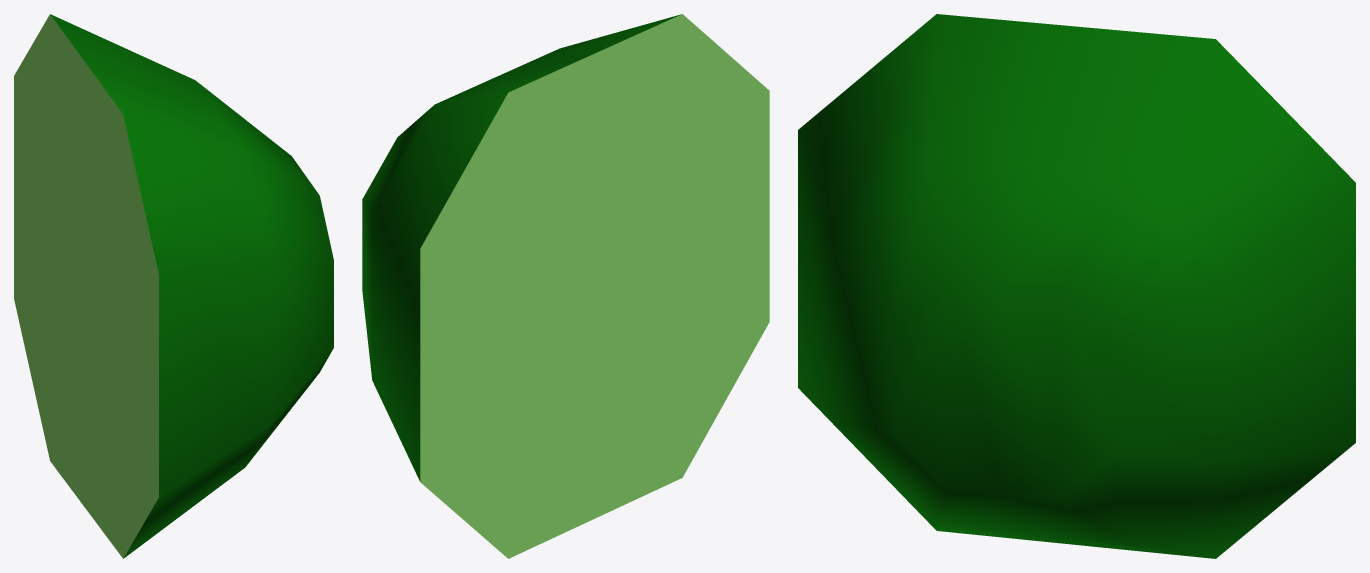
File: mesh_Cucumber_Stage13.fbx
3 views of the same model, side by side, from view 1: azimuth 30°, elevation 25°; view 2: azimuth 150°, elevation 25°; view 3: azimuth 270°, elevation 25° (orthographic). The views are drawn at different scales.
Parts seen in each view (by area): view 1: mesh_Cucumber_Stage13; view 2: mesh_Cucumber_Stage13; view 3: mesh_Cucumber_Stage13.
Boxes of the visible parts, x1,y1,x2,y2 form: mesh_Cucumber_Stage13: (14, 14, 333, 558); mesh_Cucumber_Stage13: (362, 14, 769, 558); mesh_Cucumber_Stage13: (798, 14, 1355, 558).
Size of the model in its own units: 0.0171 by 0.0287 by 0.0279.
